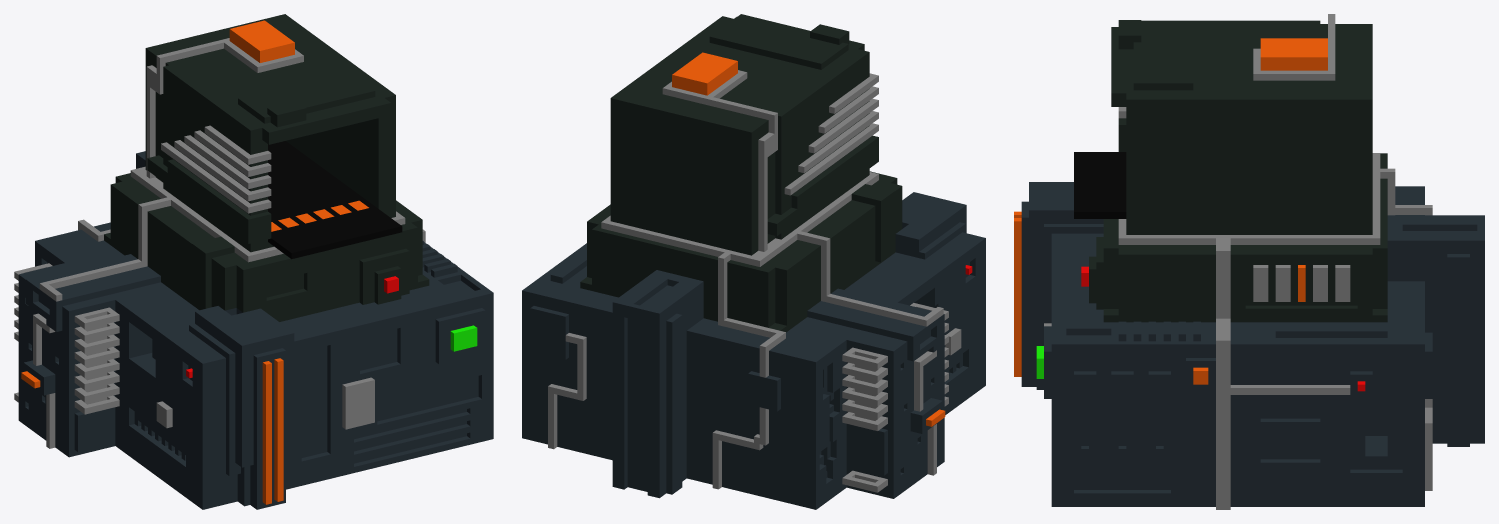
The model's file is BitcoinMachine1.obj.
The picture shows the model from 3 angles, left to right: view 1: azimuth 30°, elevation 25°; view 2: azimuth 150°, elevation 25°; view 3: azimuth 270°, elevation 25°; orthographic projection. The views are drawn at different scales.
Parts seen in each view (by area): view 1: BitcoinMachine1; view 2: BitcoinMachine1; view 3: BitcoinMachine1.
Boxes of the visible parts, bbox=[...] form: BitcoinMachine1: bbox=[14, 14, 493, 509]; BitcoinMachine1: bbox=[522, 14, 985, 509]; BitcoinMachine1: bbox=[1014, 14, 1484, 509].
Bounding box in the file's own units: 15.75 × 14.5 × 15.75.
